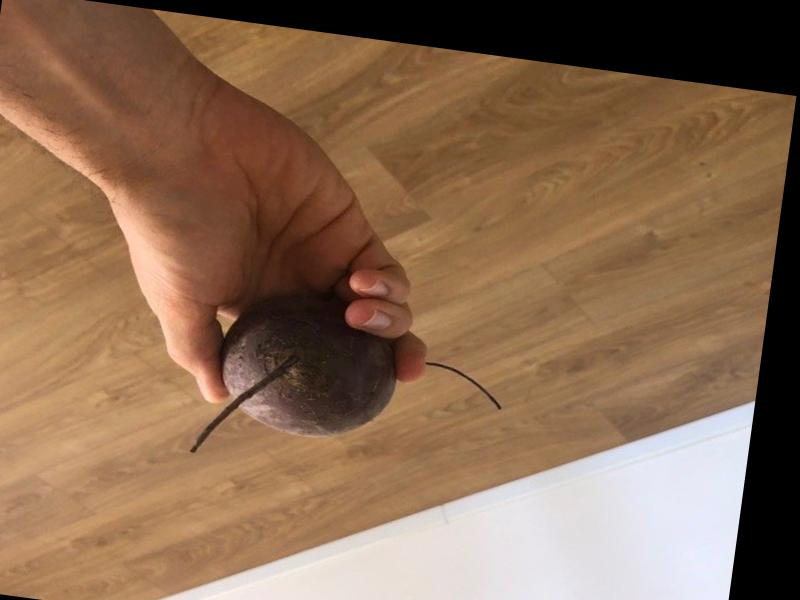Beet: (191, 282, 514, 492)
